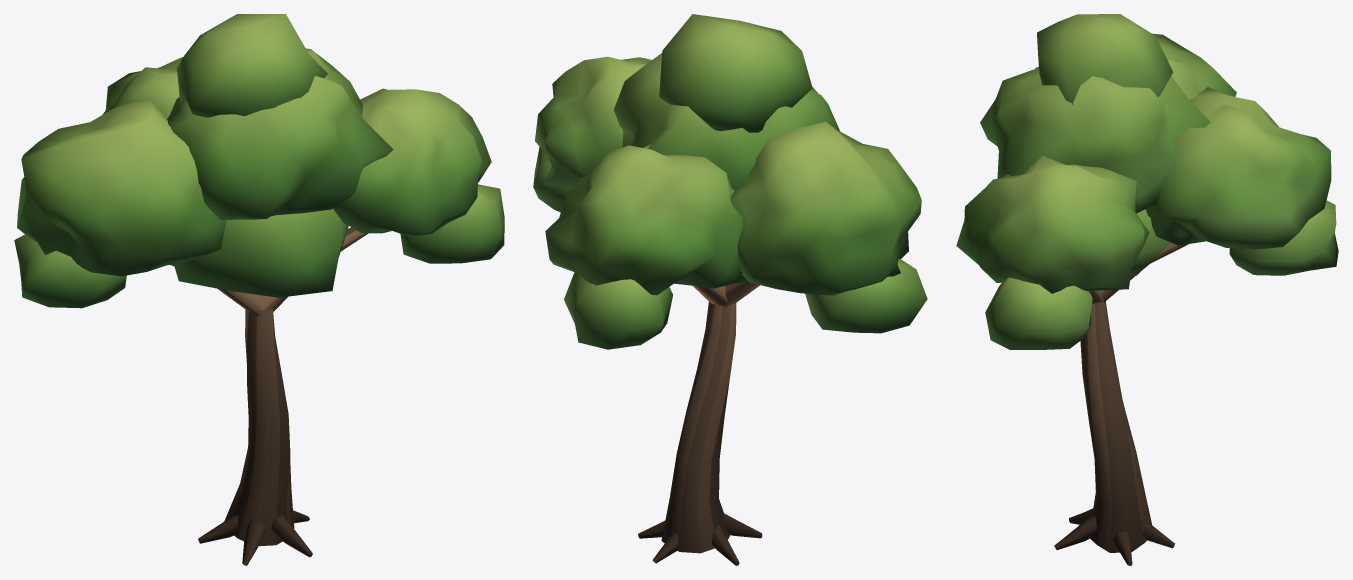
Rendered from island_tree_02.glb.
3 renders of one model, left to right at view 1: azimuth 30°, elevation 25°; view 2: azimuth 150°, elevation 25°; view 3: azimuth 270°, elevation 25°, orthographic. The views are drawn at different scales.
Visible parts, largest first — view 1: Folhas, Tronco; view 2: Folhas, Tronco; view 3: Folhas, Tronco.
Part boxes in pixels (x1=…): Folhas: x1=14, y1=14, x2=504, y2=308; Tronco: x1=170, y1=227, x2=368, y2=565; Folhas: x1=533, y1=14, x2=927, y2=349; Tronco: x1=638, y1=281, x2=762, y2=565; Folhas: x1=956, y1=14, x2=1338, y2=349; Tronco: x1=1054, y1=242, x2=1188, y2=565.
Bounding box in the file's own units: 10.97 × 12.76 × 8.6.
